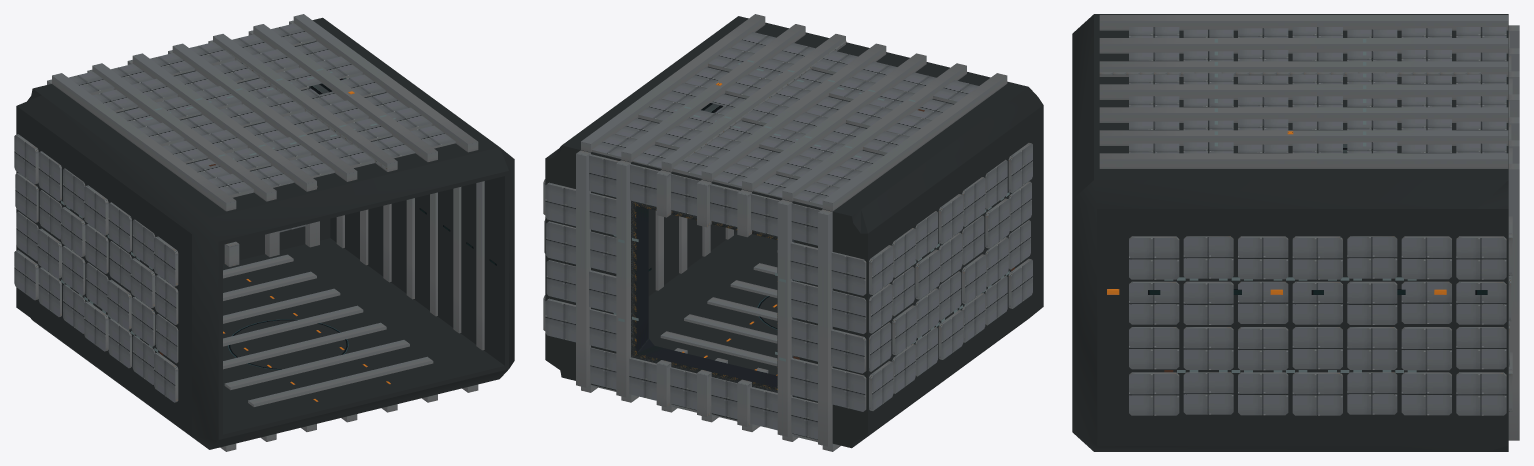
File: kit_hangar.glb
3 views of the same model, side by side, from view 1: azimuth 30°, elevation 25°; view 2: azimuth 150°, elevation 25°; view 3: azimuth 270°, elevation 25° (orthographic). The views are drawn at different scales.
Parts seen in each view (by area): view 1: lod0; view 2: lod0; view 3: lod0.
Part boxes in pixels (x1,y1,x2,y2): lod0: [14, 14, 514, 451]; lod0: [543, 14, 1043, 451]; lod0: [1072, 14, 1519, 451].
Size of what is drawn, in the model's own units: 163 by 118 by 164.
Materials: 1 (1 with a texture image).
